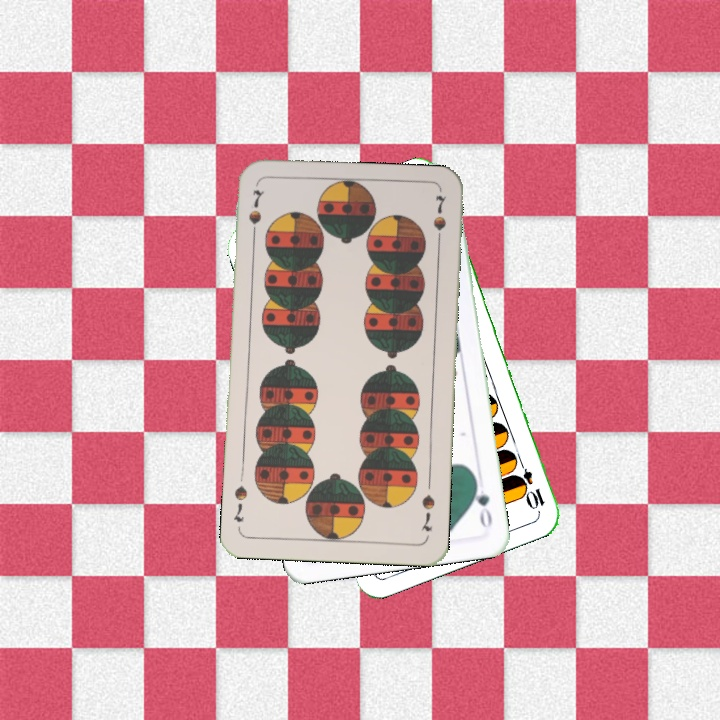E10: (512, 454, 548, 512)
GO: (469, 473, 495, 532)
S7: (244, 186, 266, 242), (416, 490, 438, 534)
